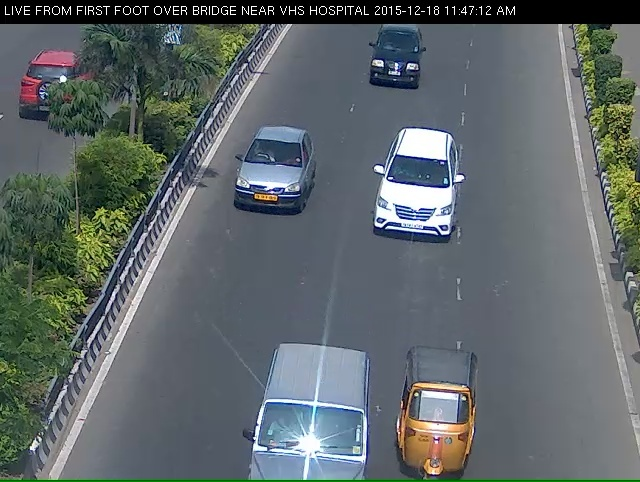Car: (349, 135, 467, 266), (236, 364, 369, 480), (385, 357, 500, 480), (233, 127, 314, 233), (366, 33, 428, 102)
